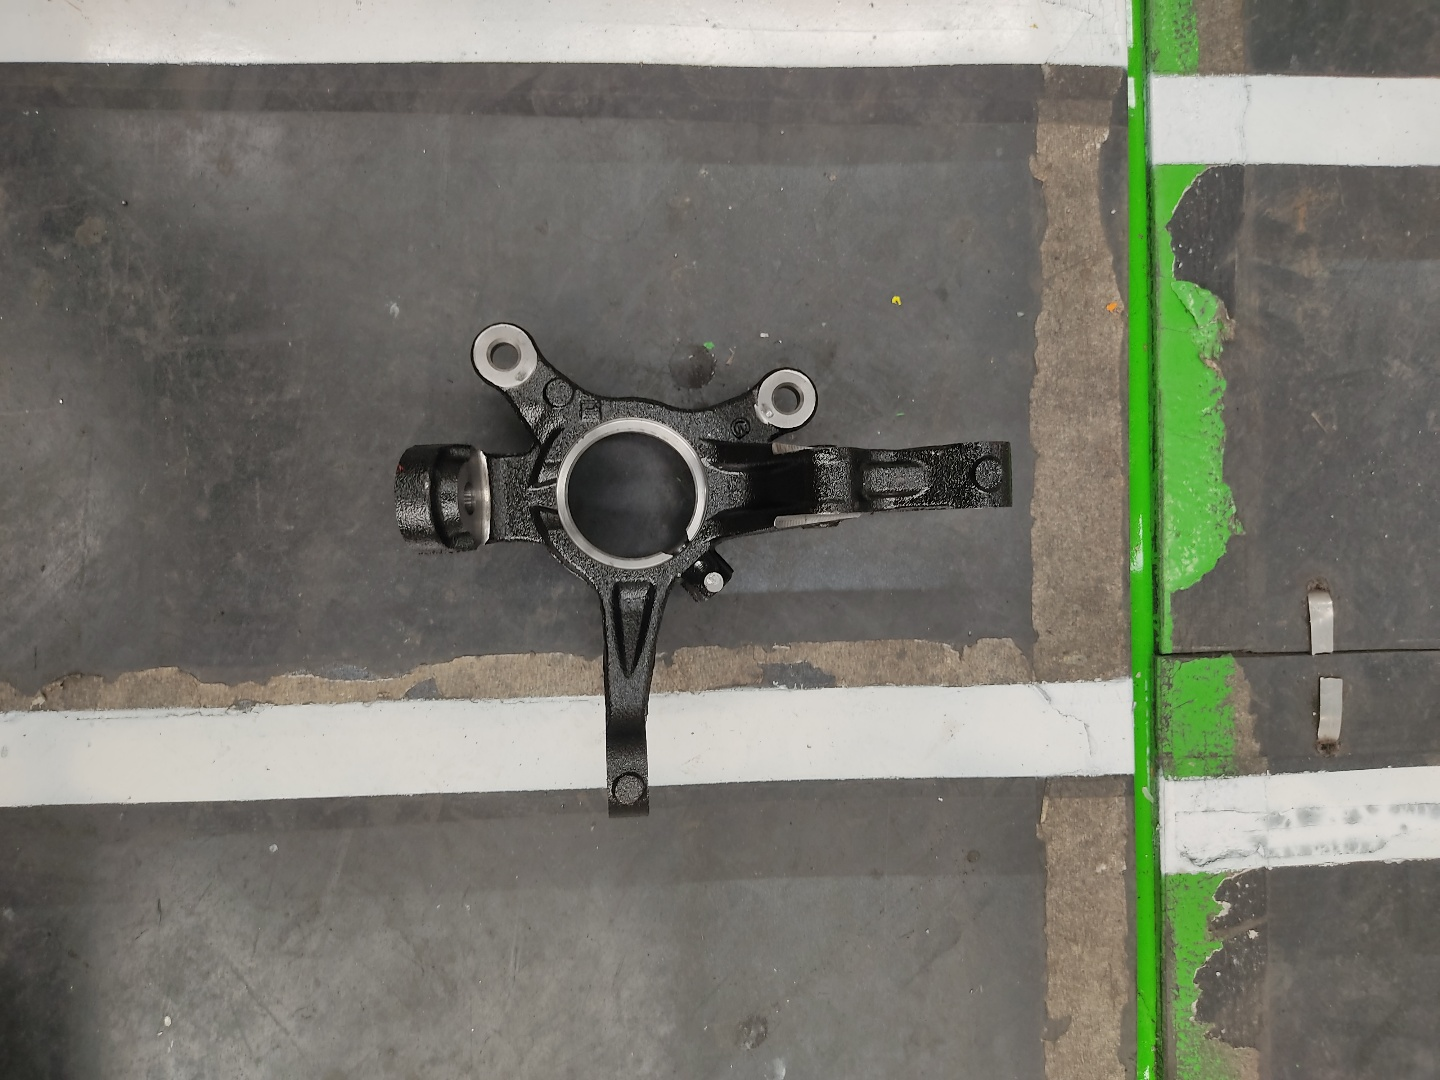abs-rh: (367, 292, 1048, 836)
